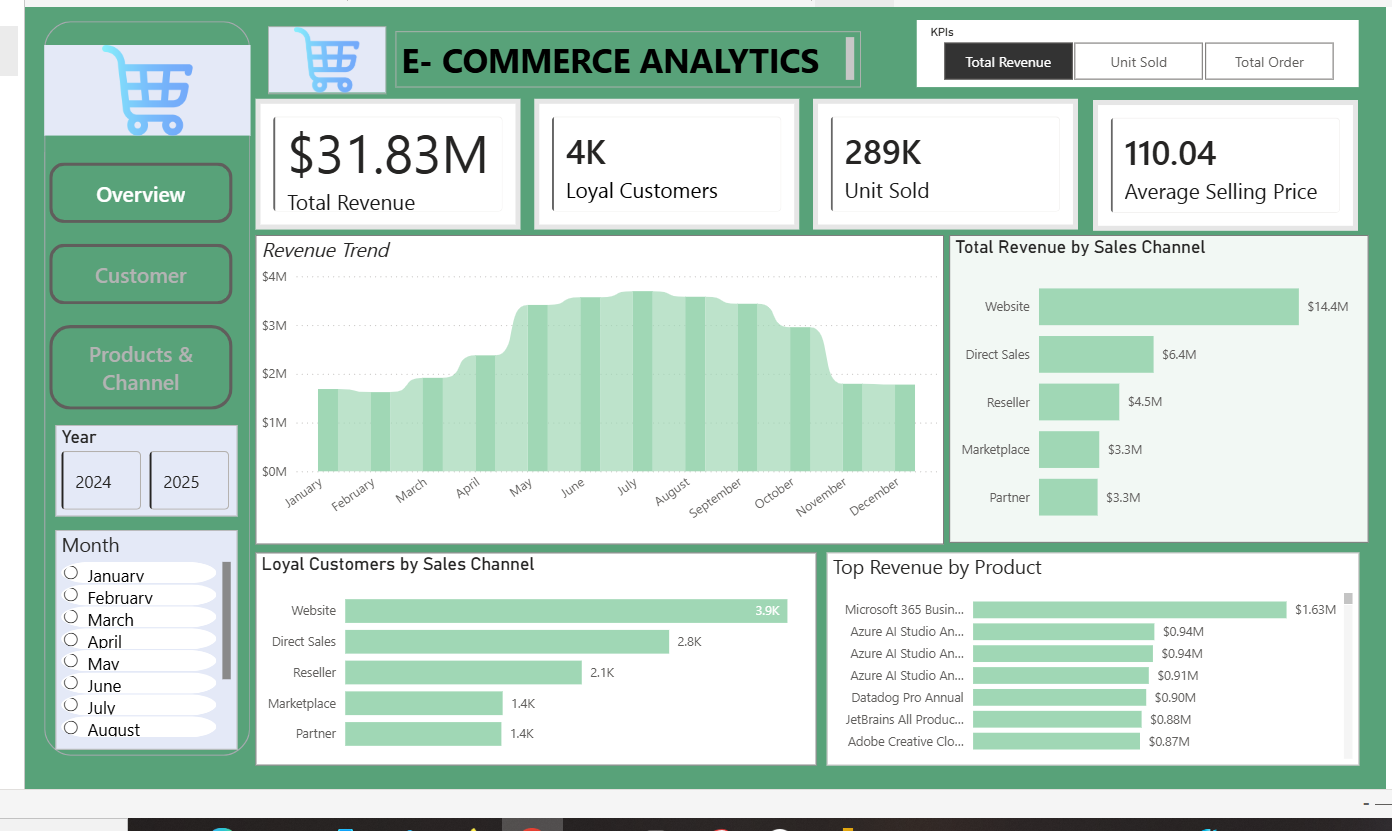

Layout of this report page (visuals, bound fields, positions):
{"tool":"powerbi","page":{"name":"Overview","canvas":[1280,720],"ordinal":0},"visuals":[{"type":"shape","box":[5.4,1.3,196.3,700.7],"z":0},{"type":"cardVisual","title":"Total Revenue","fields":{"Data":["_Measure.Total Revenue"]},"box":[207.4,75.6,253,125],"z":1000},{"type":"cardVisual","title":"Total Revenue","fields":{"Data":["_Measure.Loyal Customers"]},"box":[473.6,75.3,253,125],"z":2000},{"type":"cardVisual","title":"Total Revenue","fields":{"Data":["_Measure.Unit Sold"]},"box":[739.8,75.3,253,125],"z":3000},{"type":"cardVisual","title":"Total Revenue","fields":{"Data":["_Measure.Average Selling Price"]},"box":[1005.9,76.7,253,125],"z":4000},{"type":"ribbonChart","title":"Revenue Trend","fields":{"Y":["_Measure.Total Revenue"],"Category":["Events.Month Name"]},"box":[207.5,204.7,656.5,294.8],"z":5000},{"type":"slicer","fields":{"Values":["KPIs.KPIs"]},"box":[838,0,421.8,64.2],"z":6000},{"type":"clusteredBarChart","title":"Total Revenue by Sales Channel","fields":{"Y":["_Measure.Total Revenue"],"Category":["Events.channel"]},"box":[869.4,204.7,399.9,293.5],"z":7000},{"type":"barChart","title":"Loyal Customers by Sales Channel","fields":{"Y":["_Measure.Loyal Customers"],"Category":["Events.channel"]},"box":[207.5,507.7,535,203.4],"z":8000},{"type":"barChart","title":"Top Revenue by Product","fields":{"Category":["Products.product_name"],"Y":["_Measure.Total Revenue"]},"box":[752.1,507.7,507.7,203.4],"z":9000},{"type":"textbox","box":[341.6,10.8,443.8,53.8],"z":10000},{"type":"image","box":[219.2,5.4,113,64.6],"z":11000},{"type":"image","box":[5.5,23.4,196.4,86.5],"z":12000},{"type":"actionButton","box":[10.8,135.8,174.8,57.8],"z":13000},{"type":"actionButton","box":[10.8,213.8,174.8,57.8],"z":14000},{"type":"actionButton","box":[10.8,290.5,174.8,80.7],"z":15000},{"type":"advancedSlicerVisual","fields":{"Values":["Events.Year"]},"box":[16.1,386,173.5,87.4],"z":16000},{"type":"listSlicer","title":"Month","fields":{"Values":["Events.Month Name"]},"box":[16.1,486.8,173.5,209.8],"z":17000}]}

Visuals, with their boxes on the page's 1280x720 design canvas (x1, y1, x2, y2). These are canvas units, not pixel positions in the 1392x831 screenshot, which may show the page scaled, cropped or inside an application window:
shape: pyautogui.locateOnScreen(5, 1, 202, 702)
"Total Revenue" cardVisual: pyautogui.locateOnScreen(207, 76, 460, 201)
"Total Revenue" cardVisual: pyautogui.locateOnScreen(474, 75, 727, 200)
"Total Revenue" cardVisual: pyautogui.locateOnScreen(740, 75, 993, 200)
"Total Revenue" cardVisual: pyautogui.locateOnScreen(1006, 77, 1259, 202)
"Revenue Trend" ribbonChart: pyautogui.locateOnScreen(208, 205, 864, 500)
slicer - KPIs.KPIs: pyautogui.locateOnScreen(838, 0, 1260, 64)
"Total Revenue by Sales Channel" clusteredBarChart: pyautogui.locateOnScreen(869, 205, 1269, 498)
"Loyal Customers by Sales Channel" barChart: pyautogui.locateOnScreen(208, 508, 742, 711)
"Top Revenue by Product" barChart: pyautogui.locateOnScreen(752, 508, 1260, 711)
textbox: pyautogui.locateOnScreen(342, 11, 785, 65)
image: pyautogui.locateOnScreen(219, 5, 332, 70)
image: pyautogui.locateOnScreen(6, 23, 202, 110)
actionButton: pyautogui.locateOnScreen(11, 136, 186, 194)
actionButton: pyautogui.locateOnScreen(11, 214, 186, 272)
actionButton: pyautogui.locateOnScreen(11, 290, 186, 371)
advancedSlicerVisual - Events.Year: pyautogui.locateOnScreen(16, 386, 190, 473)
"Month" listSlicer: pyautogui.locateOnScreen(16, 487, 190, 697)
